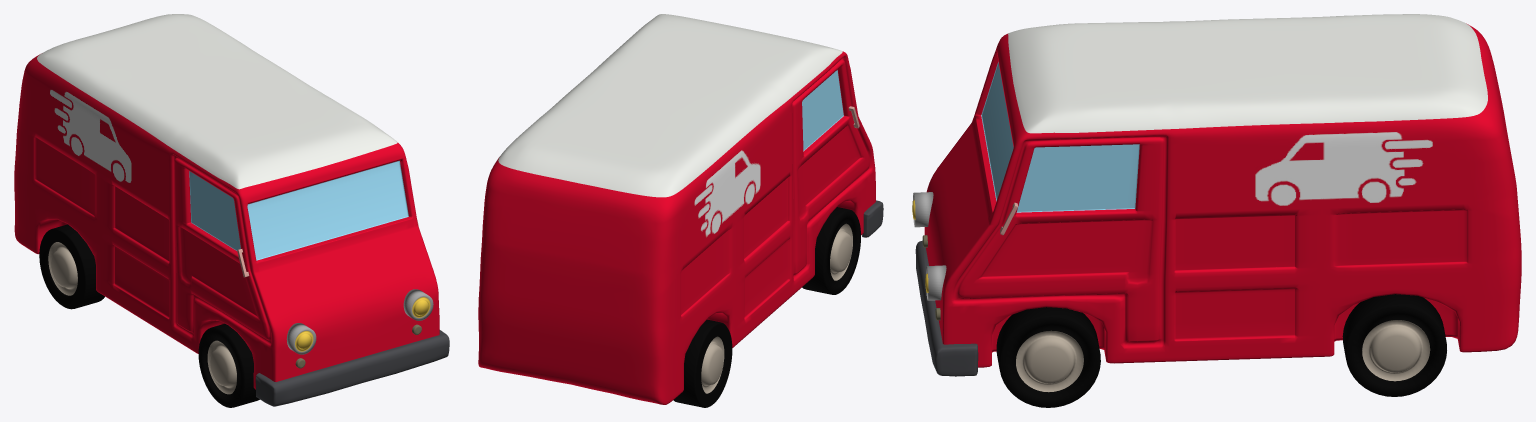
The model's file is van@idle.fbx.
The picture shows the model from 3 angles, left to right: view 1: azimuth 30°, elevation 25°; view 2: azimuth 150°, elevation 25°; view 3: azimuth 270°, elevation 25°; orthographic projection. The views are drawn at different scales.
Parts seen in each view (by area): view 1: polySurface415, polySurface425, polySurface426; view 2: polySurface415, polySurface425, polySurface426; view 3: polySurface415, polySurface423, polySurface424.
Part boxes in pixels (<box>): polySurface415: <box>14,14,449,406</box>; polySurface425: <box>39,224,104,309</box>; polySurface426: <box>198,323,259,407</box>; polySurface415: <box>478,14,883,404</box>; polySurface425: <box>673,319,732,407</box>; polySurface426: <box>802,207,860,294</box>; polySurface415: <box>912,14,1521,376</box>; polySurface423: <box>1342,294,1446,396</box>; polySurface424: <box>996,307,1100,407</box>.
Bounding box in the file's own units: 7.53 × 7.91 × 15.26.
